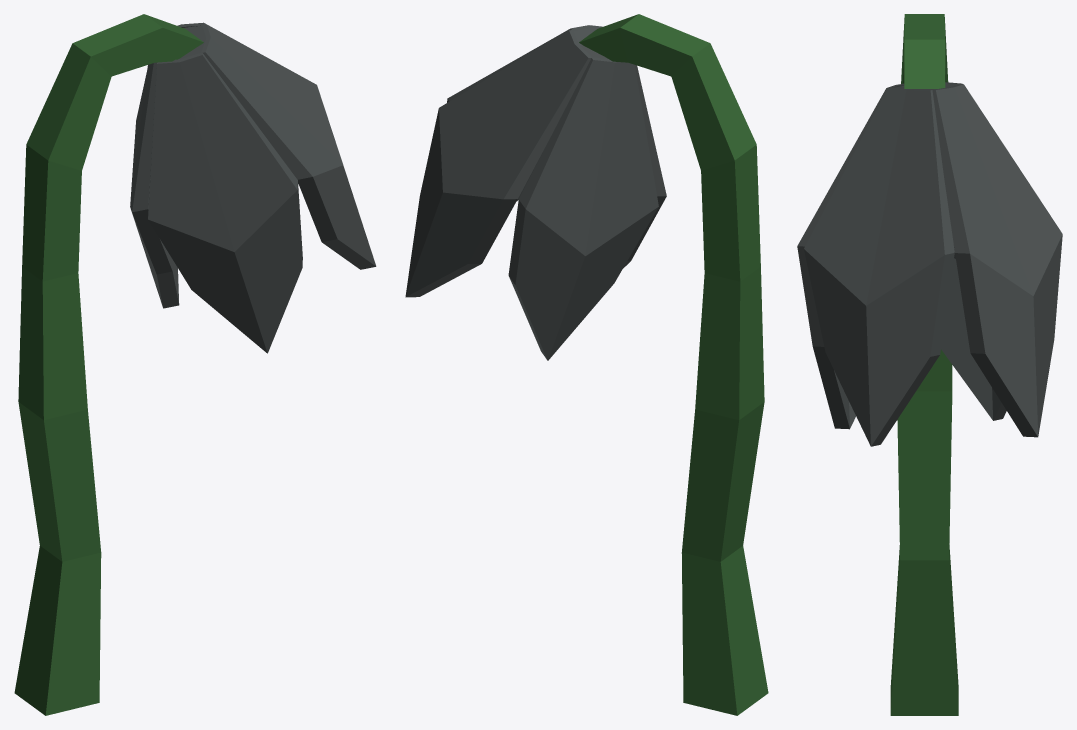
File: Flower_3_Gray.fbx
3 renders of one model, left to right at view 1: azimuth 30°, elevation 25°; view 2: azimuth 150°, elevation 25°; view 3: azimuth 270°, elevation 25°, orthographic. The views are drawn at different scales.
Parts seen in each view (by area): view 1: Flower_3_Gray_Part_2, Flower_3_Gray_Part_1; view 2: Flower_3_Gray_Part_2, Flower_3_Gray_Part_1; view 3: Flower_3_Gray_Part_2, Flower_3_Gray_Part_1.
Boxes of the visible parts, box(x1,y1,x2,y2) form: Flower_3_Gray_Part_2: box(130, 22, 376, 353); Flower_3_Gray_Part_1: box(14, 14, 203, 715); Flower_3_Gray_Part_2: box(405, 25, 666, 360); Flower_3_Gray_Part_1: box(579, 14, 768, 715); Flower_3_Gray_Part_2: box(797, 82, 1062, 446); Flower_3_Gray_Part_1: box(890, 14, 958, 715).
Size of the model in its own units: 20.43 by 39.65 by 13.38.
